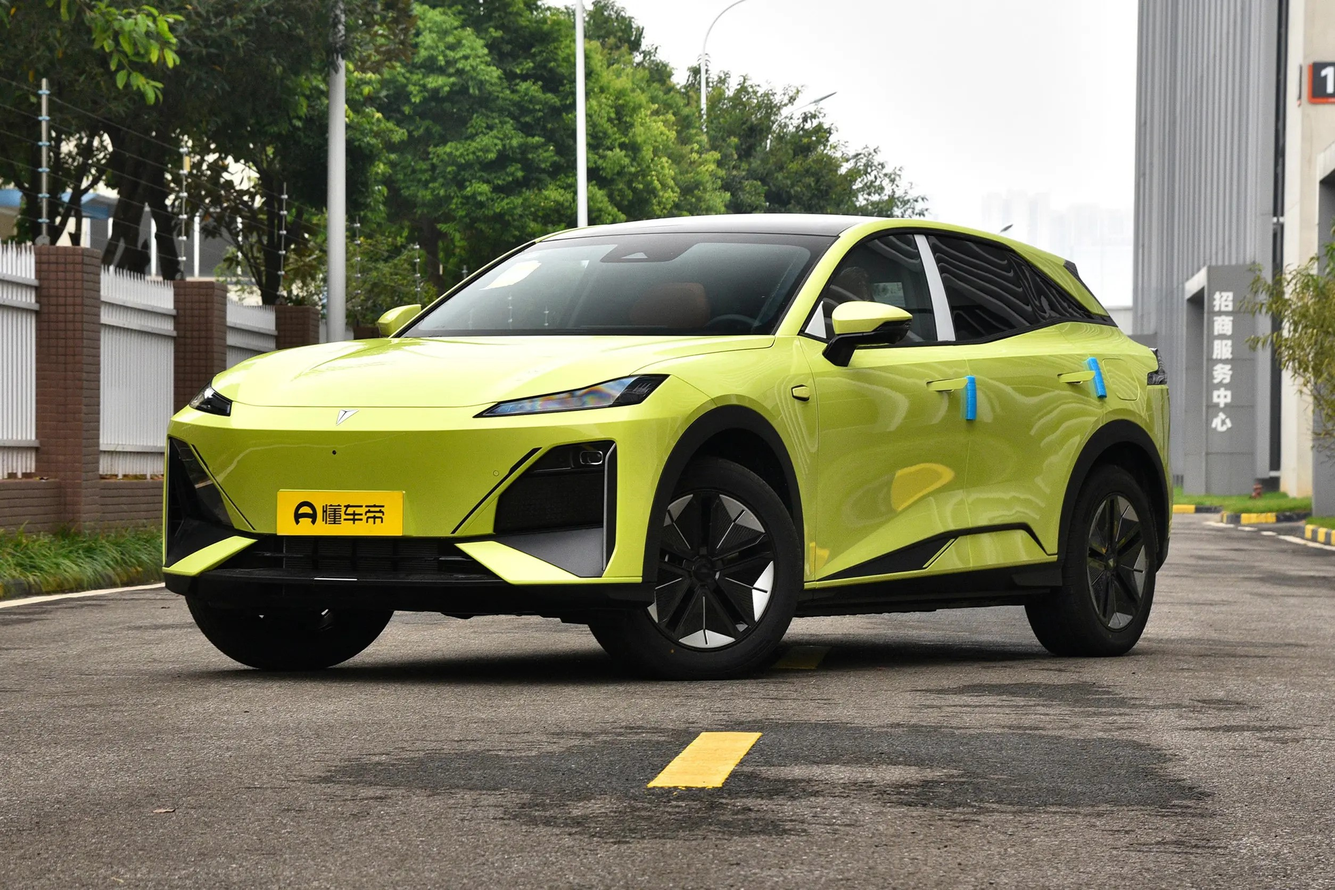Deepal: (336, 409, 359, 425)
